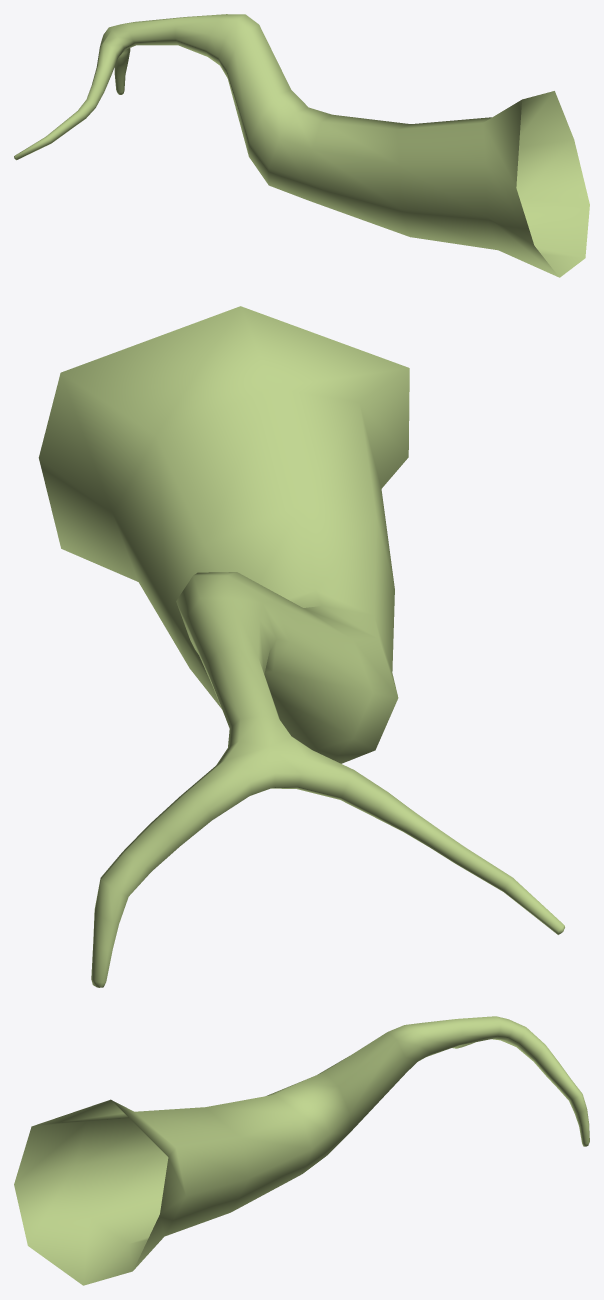
File: Big tree branches_04.fbx
The picture shows the model from 3 angles, top to bottom: view 1: azimuth 30°, elevation 25°; view 2: azimuth 150°, elevation 25°; view 3: azimuth 270°, elevation 25°; orthographic projection. The views are drawn at different scales.
Parts seen in each view (by area): view 1: polySurface593; view 2: polySurface593; view 3: polySurface593.
Boxes of the visible parts, box(x1,y1,x2,y2) form: polySurface593: box(14, 14, 589, 277); polySurface593: box(38, 306, 564, 987); polySurface593: box(14, 1016, 589, 1285).
Bounding box in the file's own units: 115 × 44.5 × 138.
